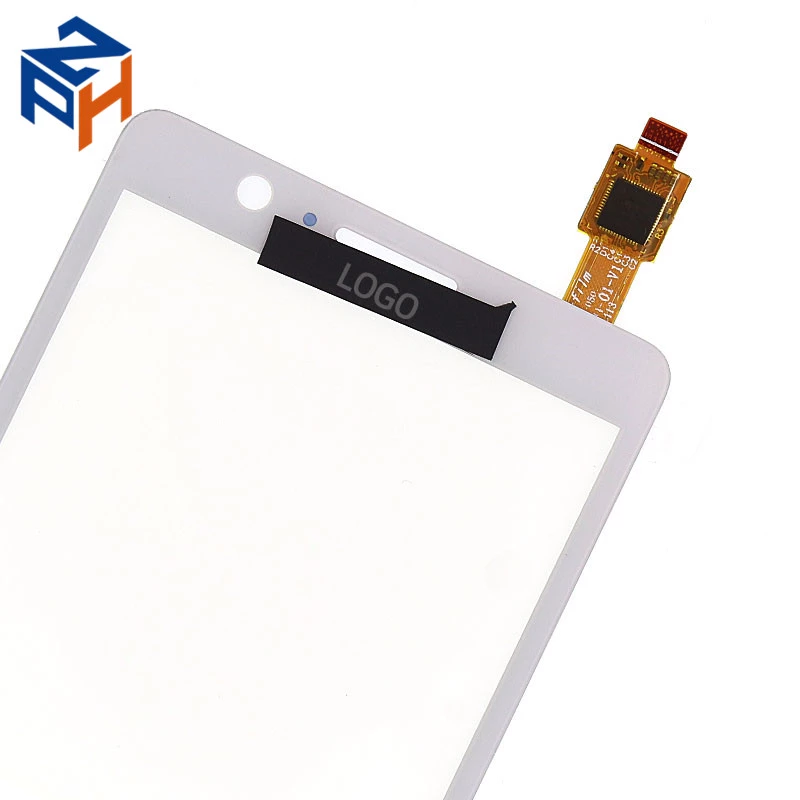phone: (1, 99, 738, 800)
